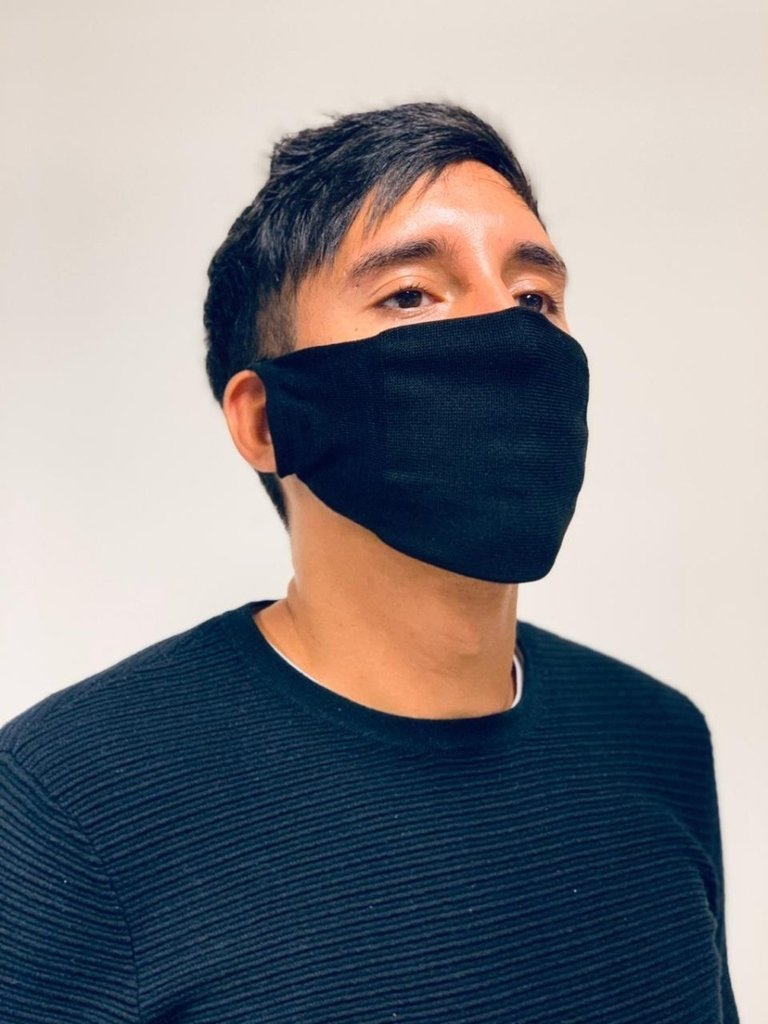barbijo: (226, 318, 591, 587)
